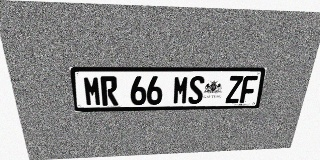6: (130, 76, 146, 105), (147, 76, 163, 105)
F: (239, 76, 258, 103)
M: (83, 76, 102, 106), (173, 76, 189, 104)
R: (100, 76, 118, 106)
S: (188, 76, 205, 104)
Z: (225, 76, 243, 103)
